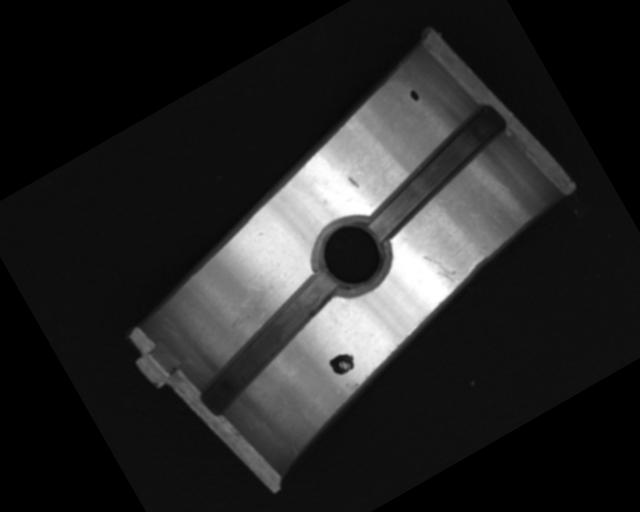blot: (326, 347, 360, 378), (407, 87, 422, 104)
bruise: (346, 173, 360, 191)
gap: (175, 267, 359, 416), (346, 101, 524, 241)
hole: (300, 205, 402, 305)
nick: (421, 245, 462, 294)
scratch: (210, 271, 288, 338)
